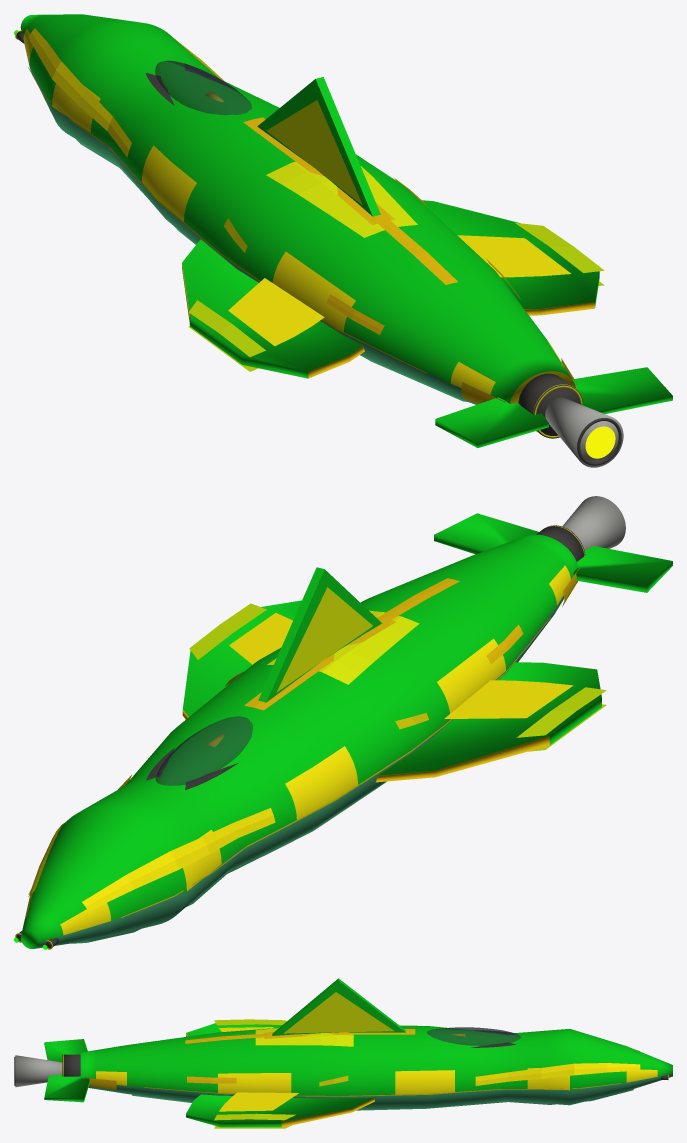
The model's file is Ship_Orca_652174.glb.
3 views of the same model, one above another, from view 1: azimuth 30°, elevation 25°; view 2: azimuth 150°, elevation 25°; view 3: azimuth 270°, elevation 25° (orthographic). The views are drawn at different scales.
Visible parts, largest first — view 1: Fuselage_OrcaCountershadedHull, PectoralFin_Left_AerofoilWingFin, PectoralFin_Right_AerofoilWingFin, PaintSaddlePatch_DorsalSweptBackMark, DorsalFinTrimPatch_LeftFace, PectoralFinPaint_Left_BroadSimplePanelTop, TailFluke_Left_SweptAftStabilizer, DorsalFin_MainSweptKeel, CanopyGlass_LowInsetDome, TailFluke_Right_SweptAftStabilizer, PectoralFinPaint_Right_BroadSimplePanelTop, EngineBell_MainLargeBurnishedNozzle (+8 smaller); view 2: Fuselage_OrcaCountershadedHull, PectoralFin_Left_AerofoilWingFin, CanopyGlass_LowInsetDome, PaintEyePatch_Left_ForwardWhiteComma, PectoralFin_Right_AerofoilWingFin, DorsalFinTrimPatch_LeftFace, PectoralFinPaint_Left_BroadSimplePanelTop, DorsalFin_MainSweptKeel, TailFluke_Left_SweptAftStabilizer, PaintSaddlePatch_DorsalSweptBackMark, EngineBell_MainLargeBurnishedNozzle, TailFluke_Right_SweptAftStabilizer (+8 smaller); view 3: Fuselage_OrcaCountershadedHull, PectoralFin_Right_AerofoilWingFin, DorsalFinTrimPatch_RightFace, PaintEyePatch_Right_ForwardWhiteComma, DorsalFin_MainSweptKeel, CanopyGlass_LowInsetDome, PaintSaddlePatch_DorsalSweptBackMark, EngineBell_MainLargeBurnishedNozzle, PectoralFinPaint_Right_BroadSimplePanelTop, TailFluke_Right_SweptAftStabilizer, TailFluke_Left_SweptAftStabilizer, HullLongitudinalSeam_Right_SideDarkLine (+9 smaller).
Boxes of the visible parts, box(x1,y1,x2,y2) form: Fuselage_OrcaCountershadedHull: box(20, 14, 575, 404); PectoralFin_Left_AerofoilWingFin: box(182, 239, 364, 378); PectoralFin_Right_AerofoilWingFin: box(422, 200, 599, 315); PaintSaddlePatch_DorsalSweptBackMark: box(266, 161, 417, 237); DorsalFinTrimPatch_LeftFace: box(266, 100, 362, 204); PectoralFinPaint_Left_BroadSimplePanelTop: box(228, 278, 324, 346); TailFluke_Left_SweptAftStabilizer: box(435, 397, 548, 447); DorsalFin_MainSweptKeel: box(257, 77, 380, 216); CanopyGlass_LowInsetDome: box(155, 60, 251, 115); TailFluke_Right_SweptAftStabilizer: box(572, 367, 672, 413); PectoralFinPaint_Right_BroadSimplePanelTop: box(457, 235, 570, 277); EngineBell_MainLargeBurnishedNozzle: box(545, 397, 623, 467); Fuselage_OrcaCountershadedHull: box(20, 534, 577, 948); PectoralFin_Left_AerofoilWingFin: box(376, 662, 601, 782); CanopyGlass_LowInsetDome: box(155, 716, 252, 785); PaintEyePatch_Left_ForwardWhiteComma: box(82, 808, 275, 911); PectoralFin_Right_AerofoilWingFin: box(182, 600, 301, 719); DorsalFinTrimPatch_LeftFace: box(276, 587, 372, 692); PectoralFinPaint_Left_BroadSimplePanelTop: box(444, 680, 573, 718); DorsalFin_MainSweptKeel: box(258, 567, 381, 702); TailFluke_Left_SweptAftStabilizer: box(573, 546, 672, 592); PaintSaddlePatch_DorsalSweptBackMark: box(267, 610, 419, 684); EngineBell_MainLargeBurnishedNozzle: box(562, 496, 625, 550); TailFluke_Right_SweptAftStabilizer: box(434, 513, 538, 554); Fuselage_OrcaCountershadedHull: box(80, 1025, 672, 1109); PectoralFin_Right_AerofoilWingFin: box(186, 1094, 374, 1127); DorsalFinTrimPatch_RightFace: box(283, 992, 394, 1033); PaintEyePatch_Right_ForwardWhiteComma: box(475, 1063, 640, 1085); DorsalFin_MainSweptKeel: box(272, 978, 405, 1035); CanopyGlass_LowInsetDome: box(427, 1027, 520, 1045); PaintSaddlePatch_DorsalSweptBackMark: box(255, 1028, 353, 1046); EngineBell_MainLargeBurnishedNozzle: box(15, 1055, 62, 1087); PectoralFinPaint_Right_BroadSimplePanelTop: box(219, 1092, 298, 1111); TailFluke_Right_SweptAftStabilizer: box(44, 1074, 89, 1102); TailFluke_Left_SweptAftStabilizer: box(44, 1039, 87, 1062); HullLongitudinalSeam_Right_SideDarkLine: box(144, 1083, 620, 1096).
Size of the model in its own units: 3.17 by 1.78 by 8.78.
